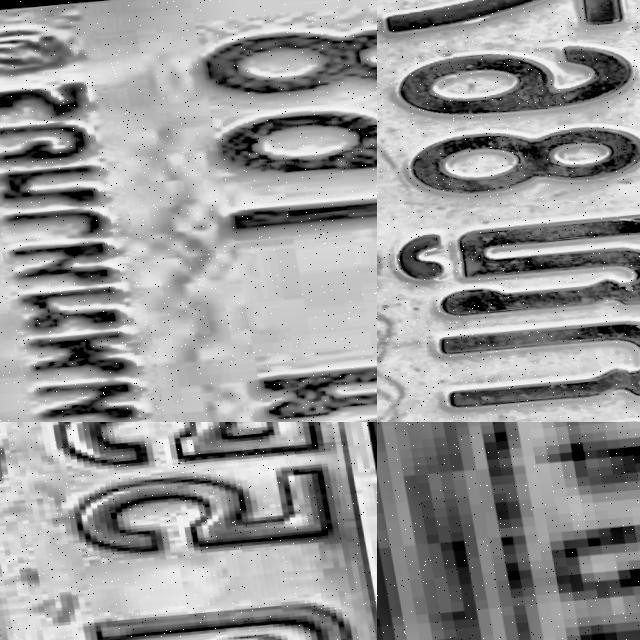license-plate: (0, 0, 377, 422), (377, 0, 640, 422), (0, 422, 377, 640), (377, 422, 640, 640)
